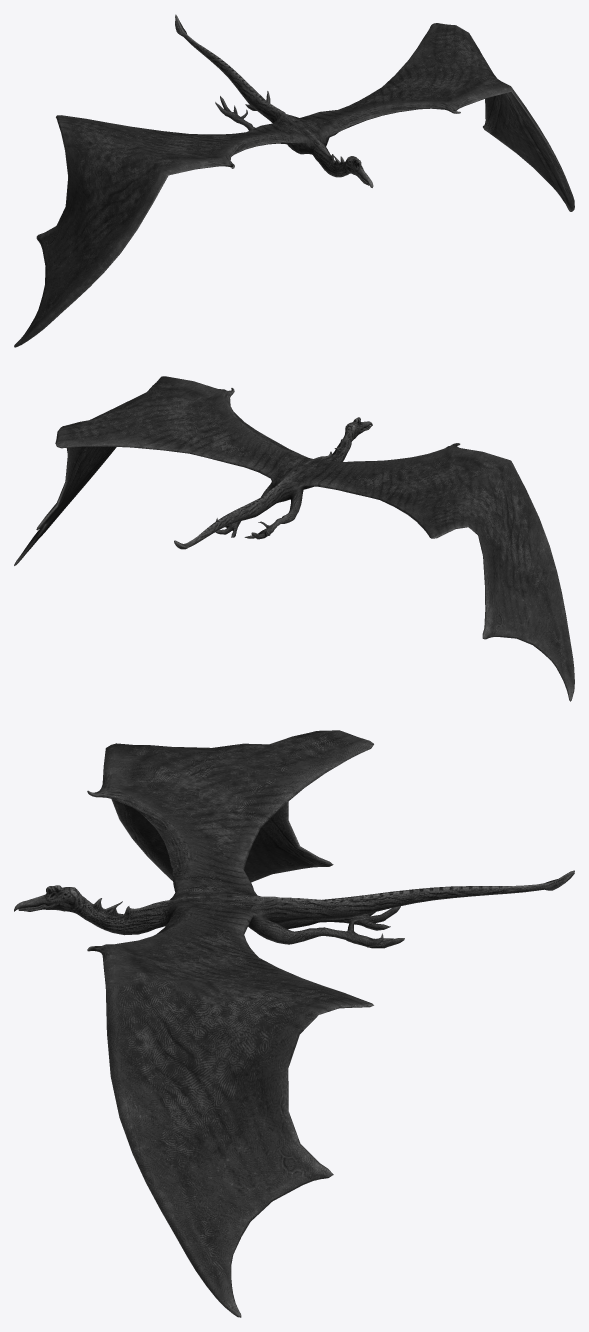
The model's file is Fellbeast_FlyAnim_38.obj.
The picture shows the model from 3 angles, top to bottom: view 1: azimuth 30°, elevation 25°; view 2: azimuth 150°, elevation 25°; view 3: azimuth 270°, elevation 25°; orthographic projection. The views are drawn at different scales.
Parts seen in each view (by area): view 1: Fellbeast; view 2: Fellbeast; view 3: Fellbeast.
Part boxes in pixels (left/top/right/bottom): Fellbeast: left=14, top=14, right=574, bottom=347; Fellbeast: left=14, top=376, right=574, bottom=701; Fellbeast: left=14, top=730, right=574, bottom=1317.
Size of the model in its own units: 7.11 by 2.25 by 4.36.
